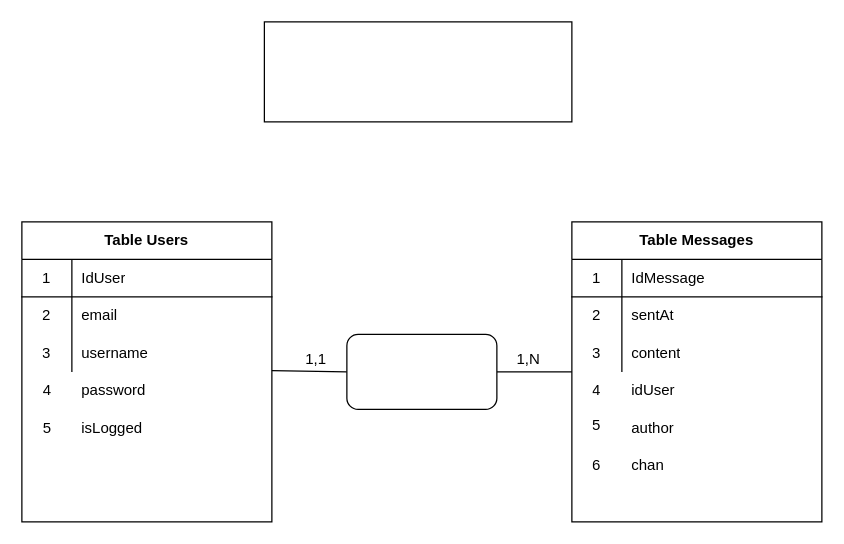
The diagram is 844 pixels wide and 544 high, and some of its shapes have lost their labels. Here are the shapes that lost their labels. From the top down, the centre of each, then its label:
At [417,71]: "Database nasfernane_discordphp".
At [421,371]: "PEUT ENVOYER".
